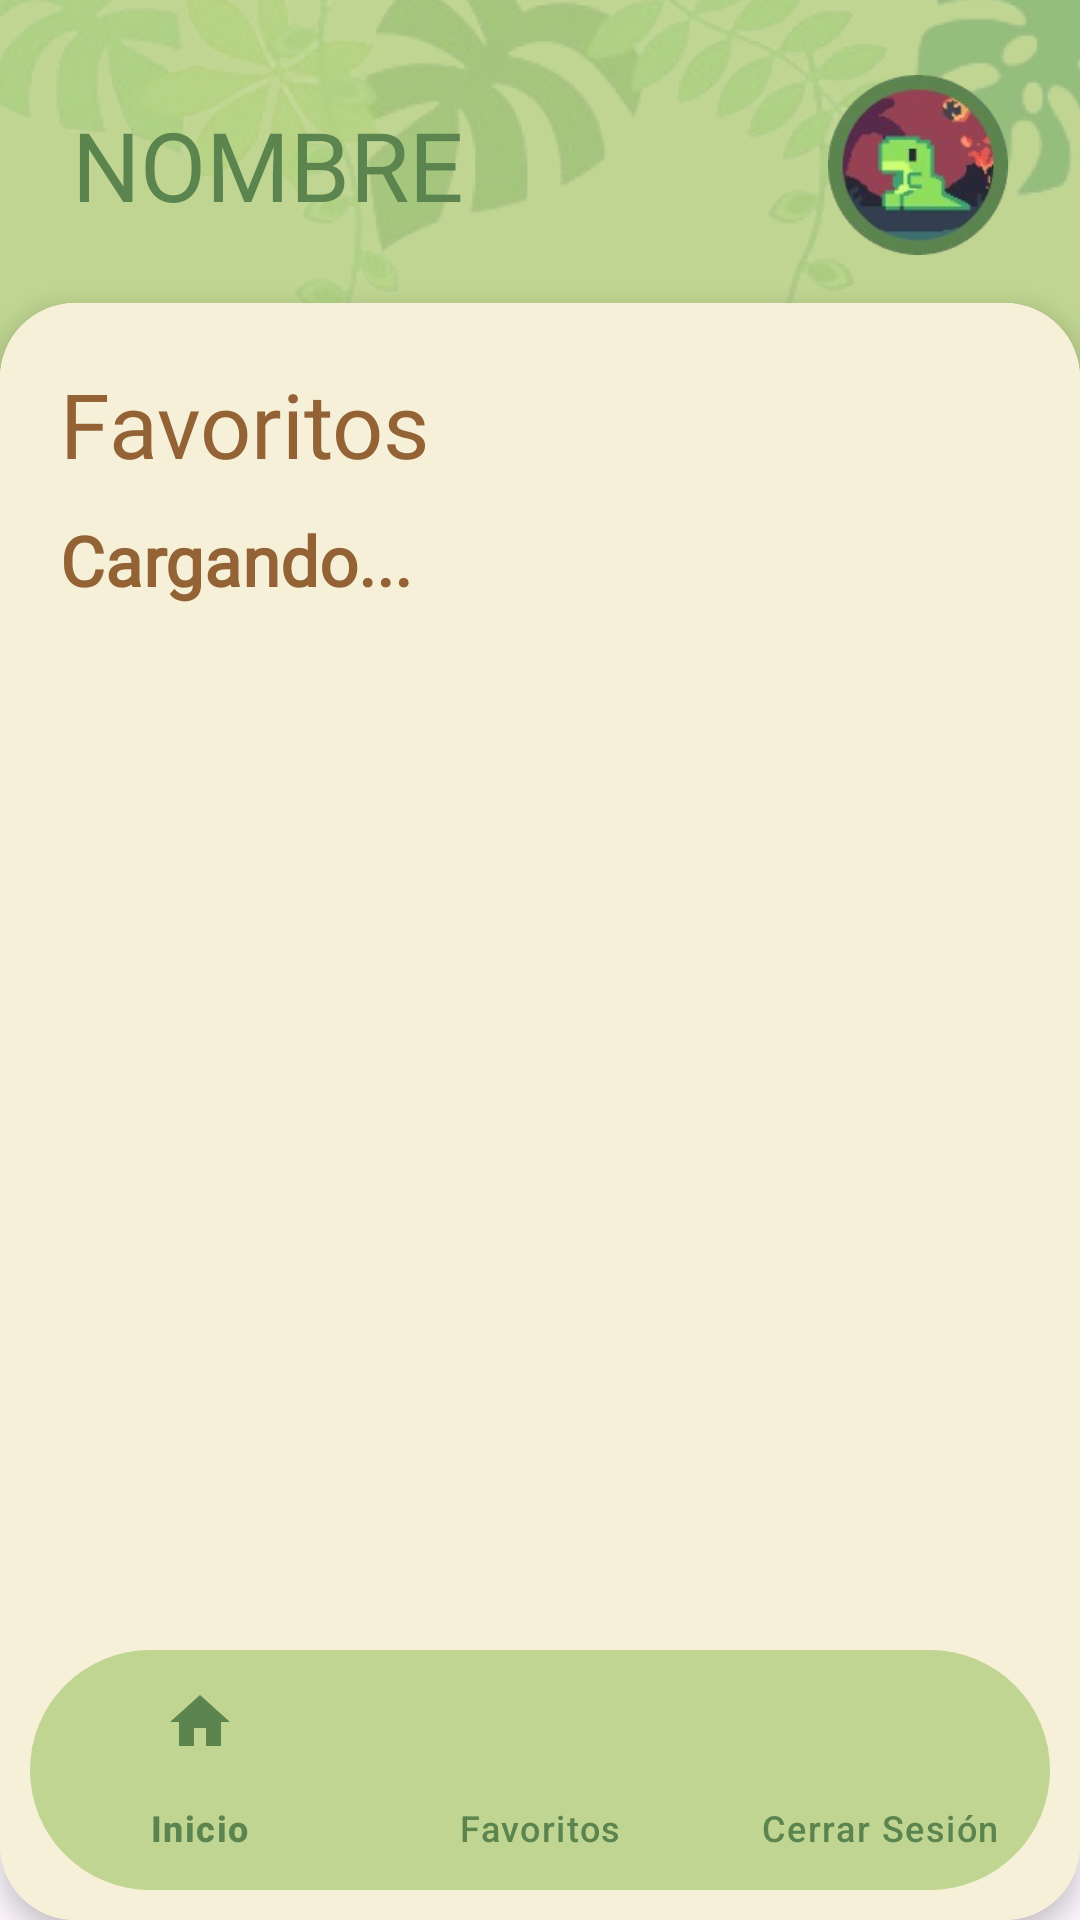

Icons on this 1080×1920 Android screen, each with the point to tap as (x=x, y=y):
perfil: (x=918, y=165)
